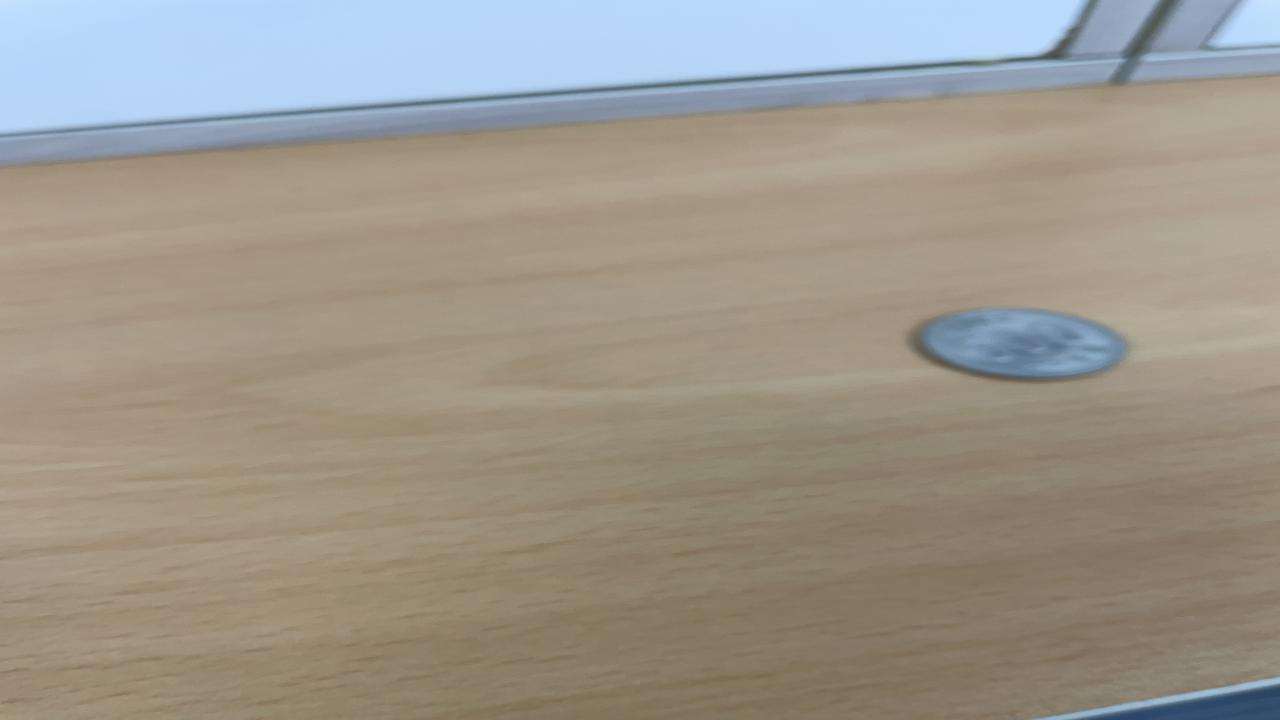coin: (912, 306, 1136, 381)
